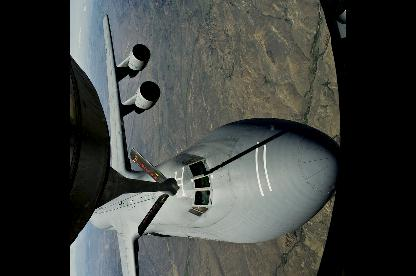C17: (89, 13, 342, 275)
